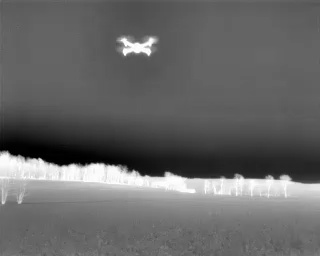DRONE: (111, 31, 163, 63)
